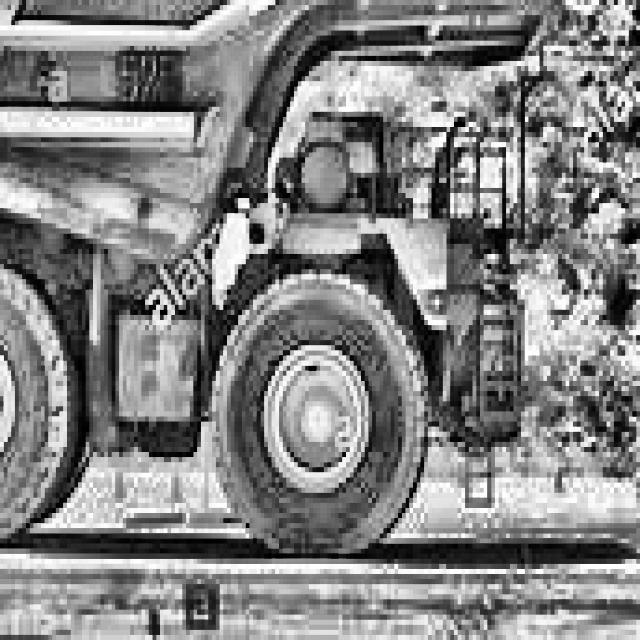dump_truck: (0, 0, 584, 564)
